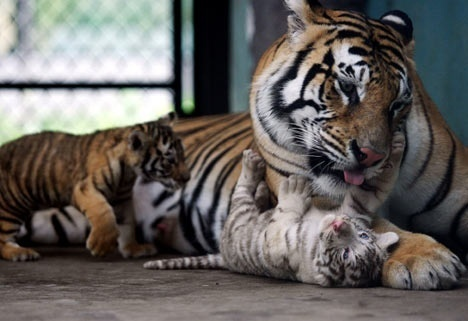tigre: (92, 1, 468, 280), (143, 147, 399, 289), (1, 110, 191, 260)
